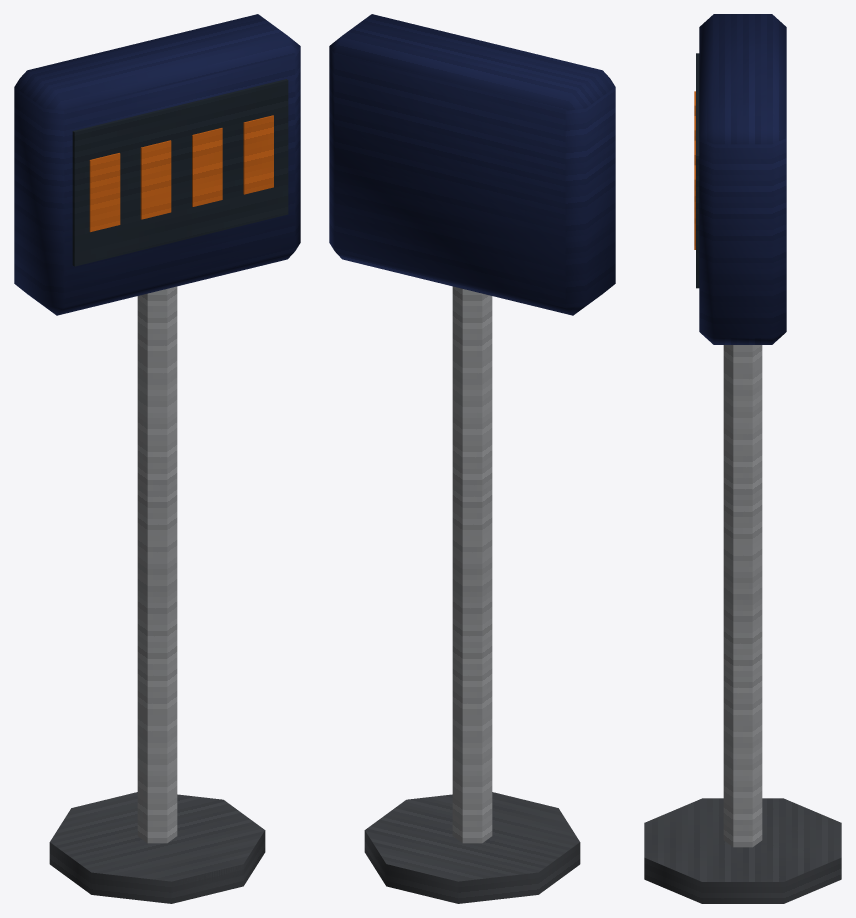
Rendered from totem_cronometro.glb.
The picture shows the model from 3 angles, left to right: view 1: azimuth 30°, elevation 25°; view 2: azimuth 150°, elevation 25°; view 3: azimuth 270°, elevation 25°; orthographic projection.
Parts seen in each view (by area): view 1: Inteiro, Peca_00, Peca_01; view 2: Inteiro, Peca_00, Peca_01; view 3: Inteiro.
Boxes of the visible parts, <box> form: Inteiro: <box>14,14,300,903</box>; Peca_00: <box>51,793,262,901</box>; Peca_01: <box>14,121,37,300</box>; Inteiro: <box>329,14,615,903</box>; Peca_00: <box>365,793,578,884</box>; Peca_01: <box>329,38,339,242</box>; Inteiro: <box>644,14,841,903</box>.
Bounding box in the file's own units: 0.6 × 1.8 × 0.4065.
1 material, 1 textured.
